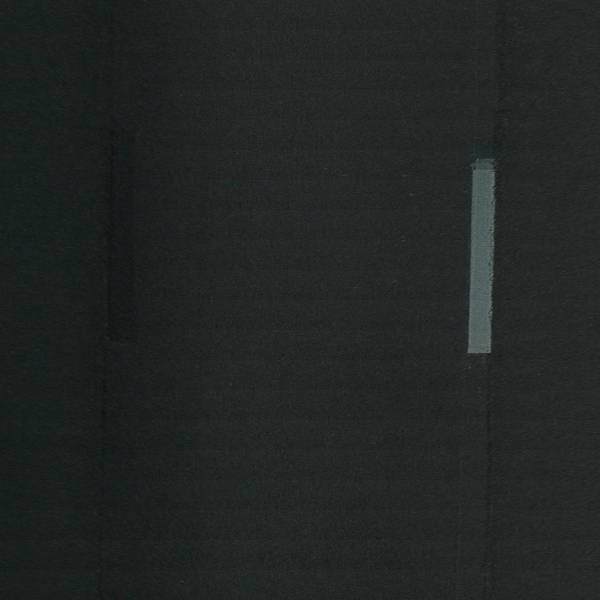road_damage: (98, 128, 120, 350), (482, 371, 495, 600)
